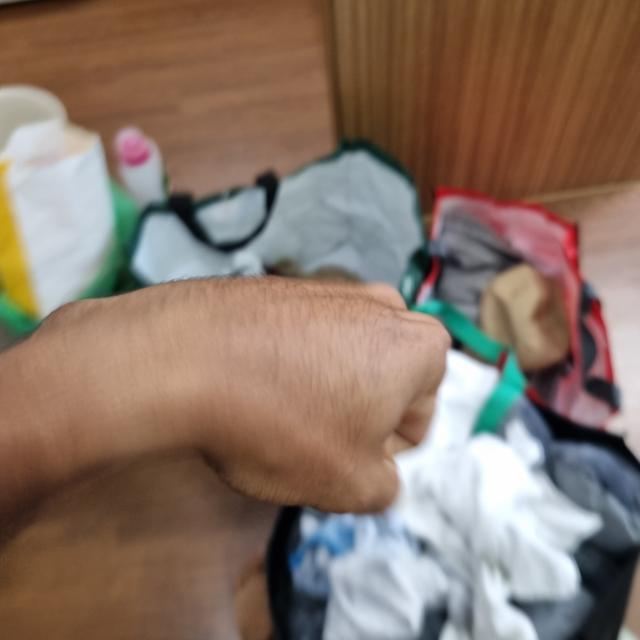Rock: (51, 276, 447, 512)
